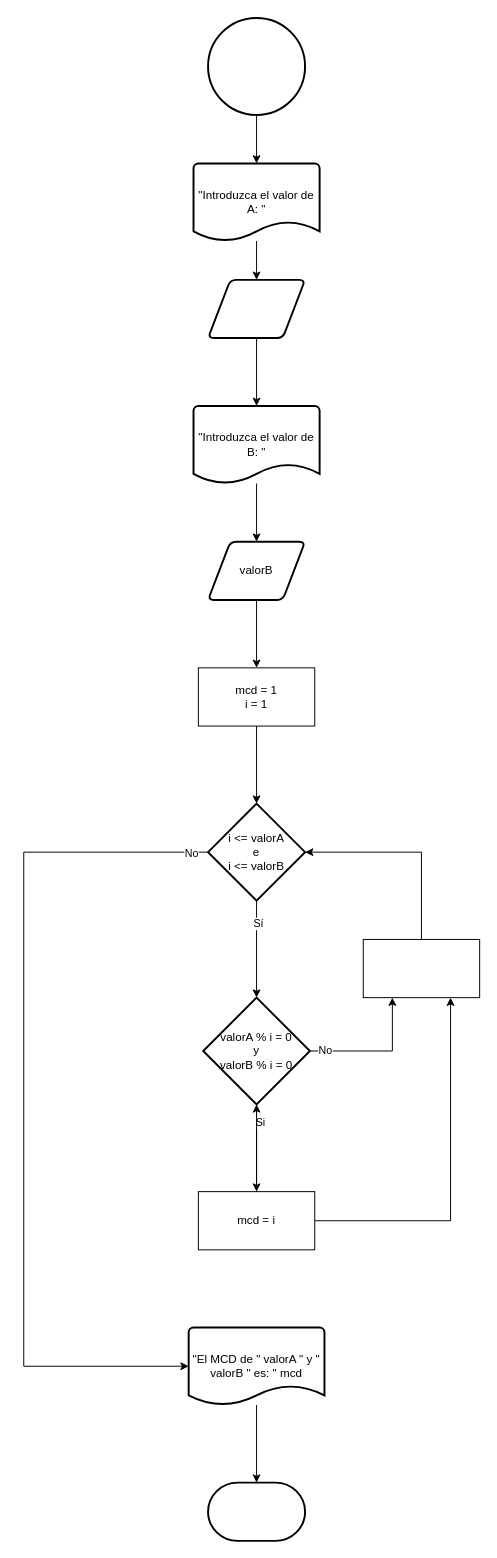
Some shapes in this 497 by 1558 pixel diagram are drawn without their labels. The centre of each missing label's shape, as x and y in pixels:
"Fin" belongs at point 256,1511.
"i = i + 1" belongs at point 421,968.
"Inicio" belongs at point 256,65.
"valorA" belongs at point 256,308.
